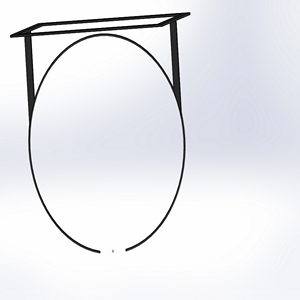circle: (8, 10, 192, 255)
